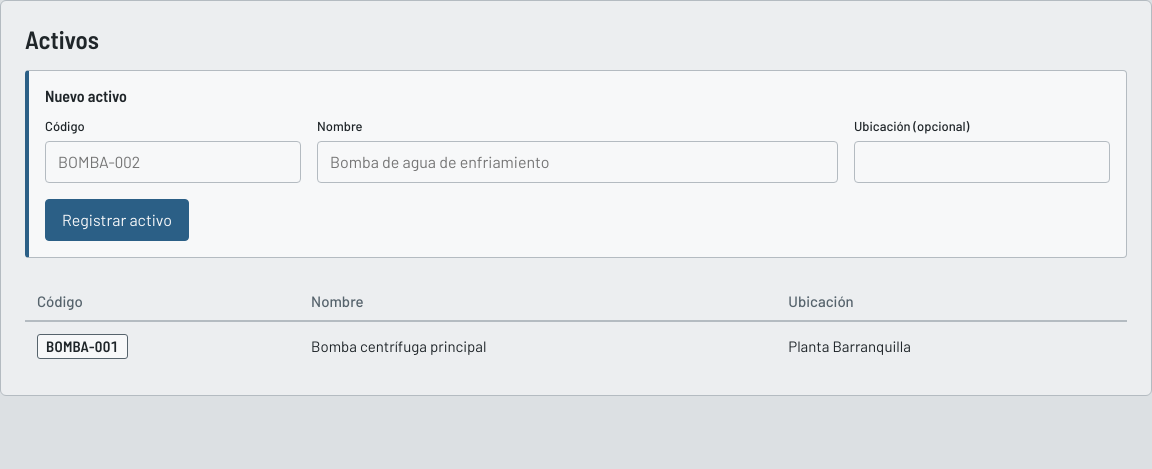
Test: AssetsPage › confirms a registered asset by its code
In the field labelled "Código": [173, 162] box [45, 141, 301, 183], type "bomba-002"
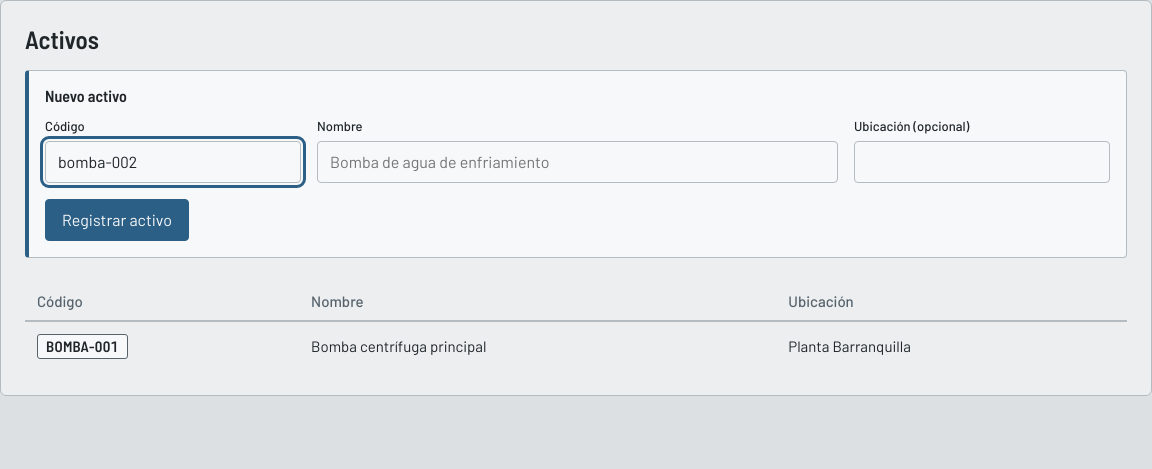
In the field labelled "Nombre": [578, 162] box [317, 141, 838, 183], type "Bomba de enfriamiento"
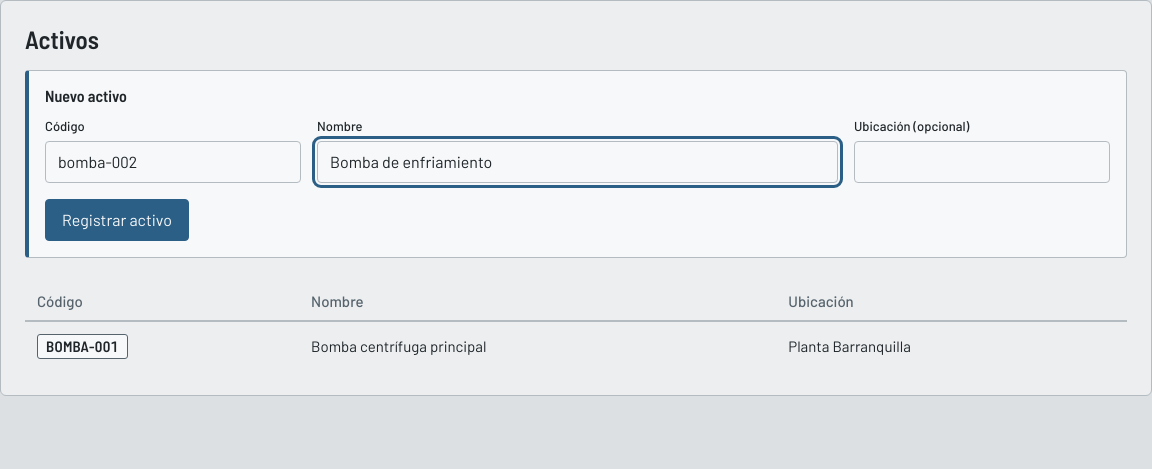
Click the button "Registrar activo": [117, 220] box [45, 199, 189, 241]
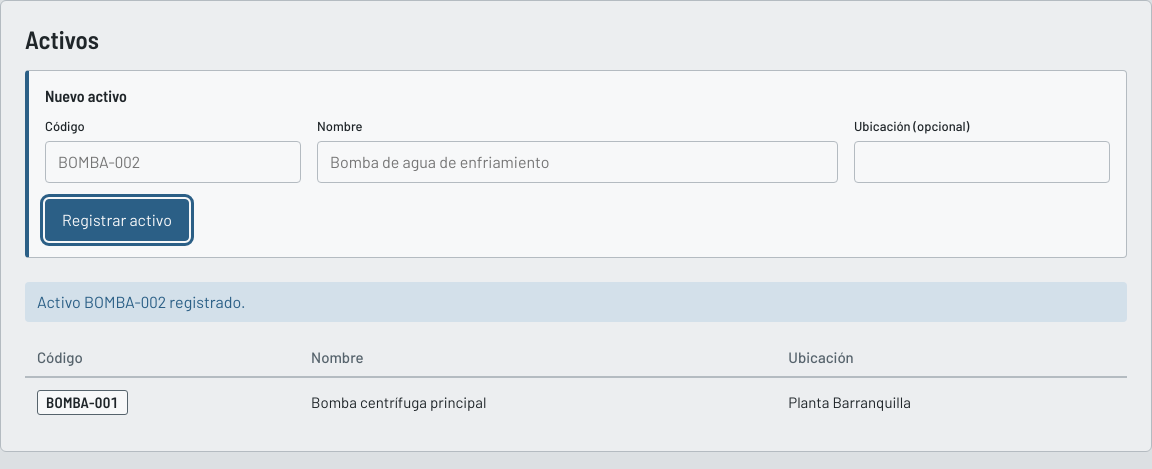
Expected: the message reads "Activo BOMBA-002 registrado.", [25, 282, 1127, 322]
